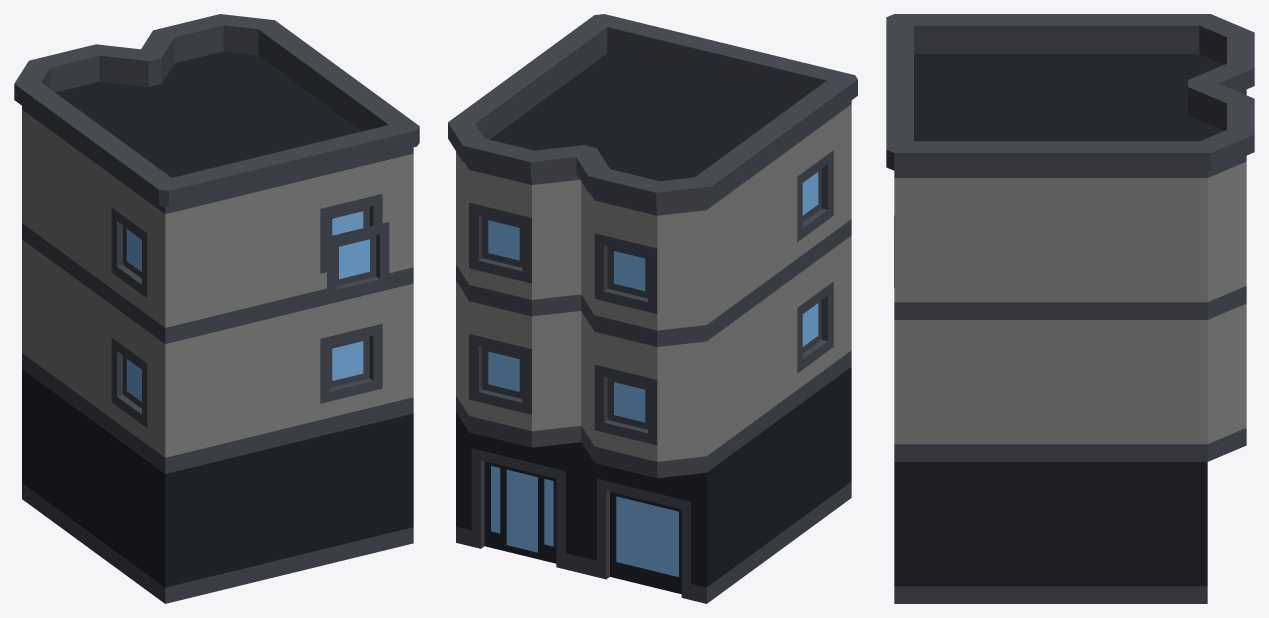
The model's file is variant_4.obj.
3 renders of one model, left to right at view 1: azimuth 30°, elevation 25°; view 2: azimuth 150°, elevation 25°; view 3: azimuth 270°, elevation 25°, orthographic. The views are drawn at different scales.
Parts seen in each view (by area): view 1: Building_copy, Window_copy; view 2: Building_copy; view 3: Building_copy.
Part boxes in pixels (x1=…): Building_copy: x1=14, y1=14, x2=419, y2=603; Window_copy: x1=327, y1=222, x2=389, y2=301; Building_copy: x1=448, y1=14, x2=857, y2=603; Building_copy: x1=886, y1=14, x2=1254, y2=603.
Size of the model in its own units: 0.84 by 1.28 by 0.94.
